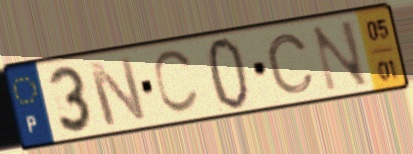0: (204, 34, 252, 112)
3: (46, 62, 96, 136)
C: (150, 46, 202, 117), (264, 31, 318, 97)
N: (84, 54, 151, 129), (308, 17, 372, 95)
